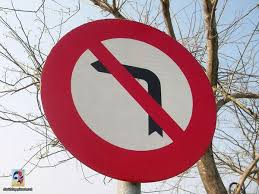No_left_turn: (42, 18, 218, 183)
